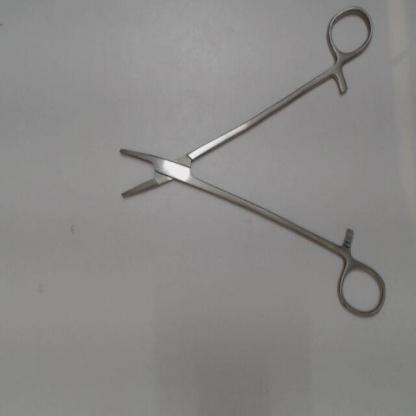8 Mayo Needle Holder: (111, 1, 397, 327)
